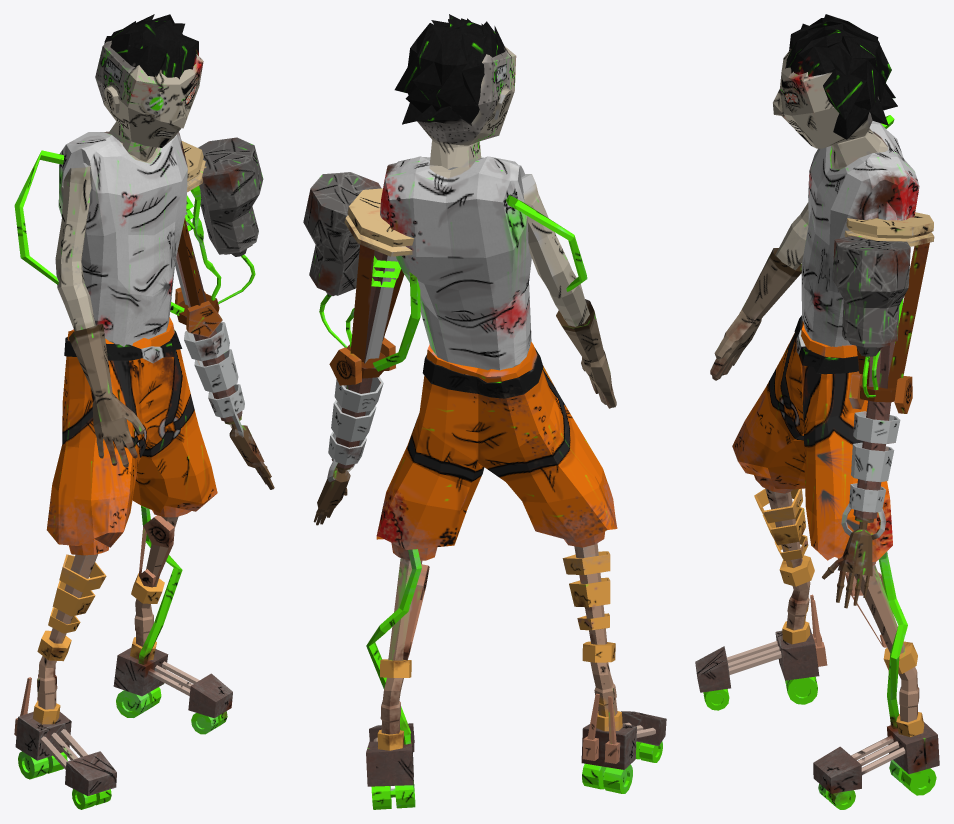
The model's file is CyborgFINALAnimation_000154.obj.
3 views of the same model, side by side, from view 1: azimuth 30°, elevation 25°; view 2: azimuth 150°, elevation 25°; view 3: azimuth 270°, elevation 25° (orthographic). The views are drawn at different scales.
Parts seen in each view (by area): view 1: CyborgMesh_Cube.002; view 2: CyborgMesh_Cube.002; view 3: CyborgMesh_Cube.002.
Boxes of the visible parts, x1,y1,x2,y2 form: CyborgMesh_Cube.002: (14, 14, 274, 809); CyborgMesh_Cube.002: (303, 14, 666, 809); CyborgMesh_Cube.002: (695, 14, 939, 809).
Bounding box in the file's own units: 3.81 × 9.69 × 2.85.
